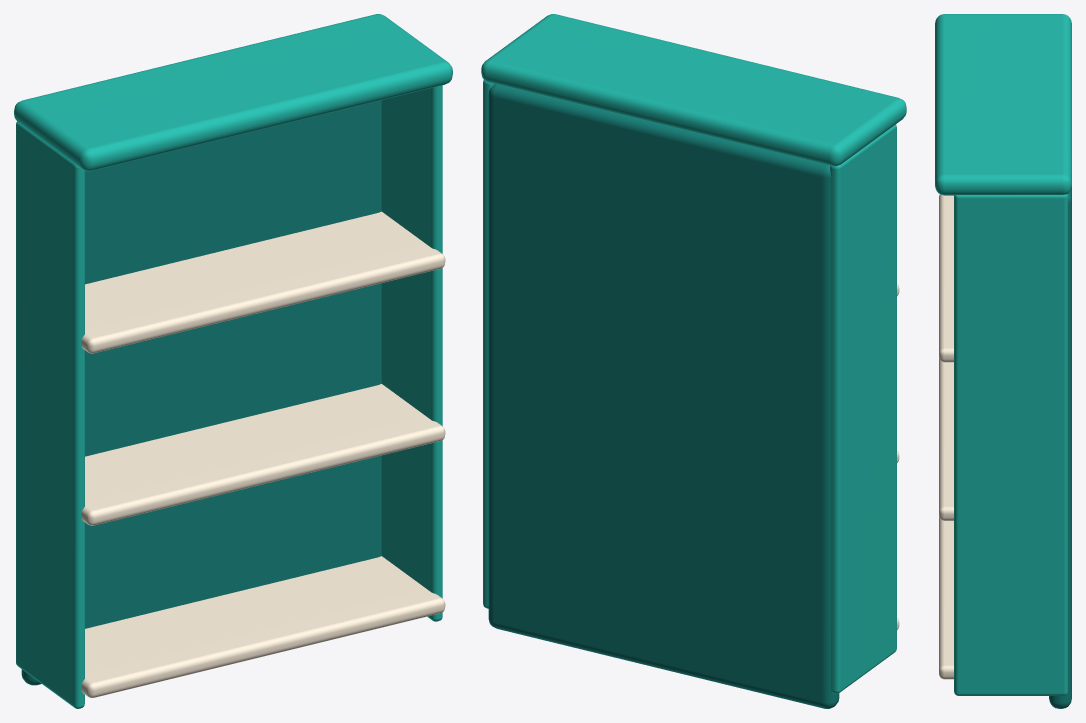
The model's file is JarShelf.fbx.
3 views of the same model, side by side, from view 1: azimuth 30°, elevation 25°; view 2: azimuth 150°, elevation 25°; view 3: azimuth 270°, elevation 25° (orthographic). The views are drawn at different scales.
Parts seen in each view (by area): view 1: JarShelf mesh; view 2: JarShelf mesh; view 3: JarShelf mesh.
Part boxes in pixels (x1,y1,x2,y2): JarShelf mesh: [14, 14, 452, 708]; JarShelf mesh: [481, 14, 906, 708]; JarShelf mesh: [935, 14, 1071, 708].
Bounding box in the file's own units: 1.04 × 1.56 × 0.36.
